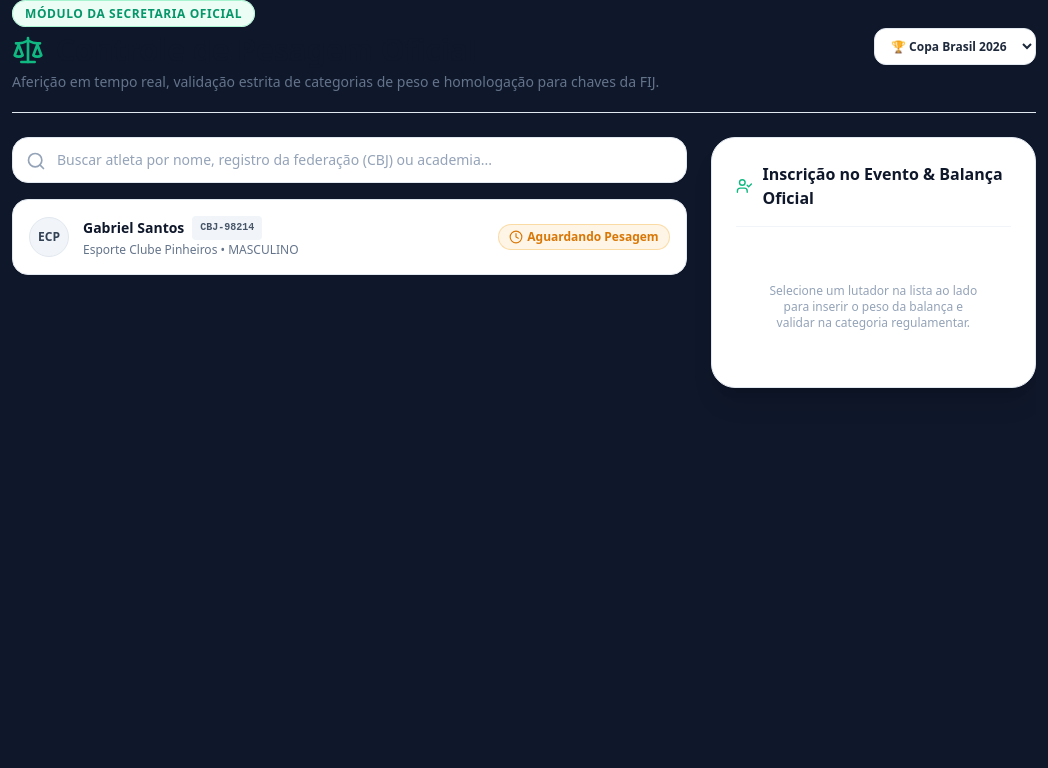
Scenario: Campeonatos & Pesagem Flow (Integration Tests) › lista todos os atletas cadastrados na Pesagem e realiza a inscrição e aferição de peso no campeonato
Expected: the text "Gabriel Santos" is shown, [83, 218, 184, 237]
Expected: the text "Aguardando Pesagem" is shown, [498, 224, 670, 250]
// Seleciona o atleta na lista
Click the text "Gabriel Santos": coordinates (173, 228) [83, 216, 262, 240]
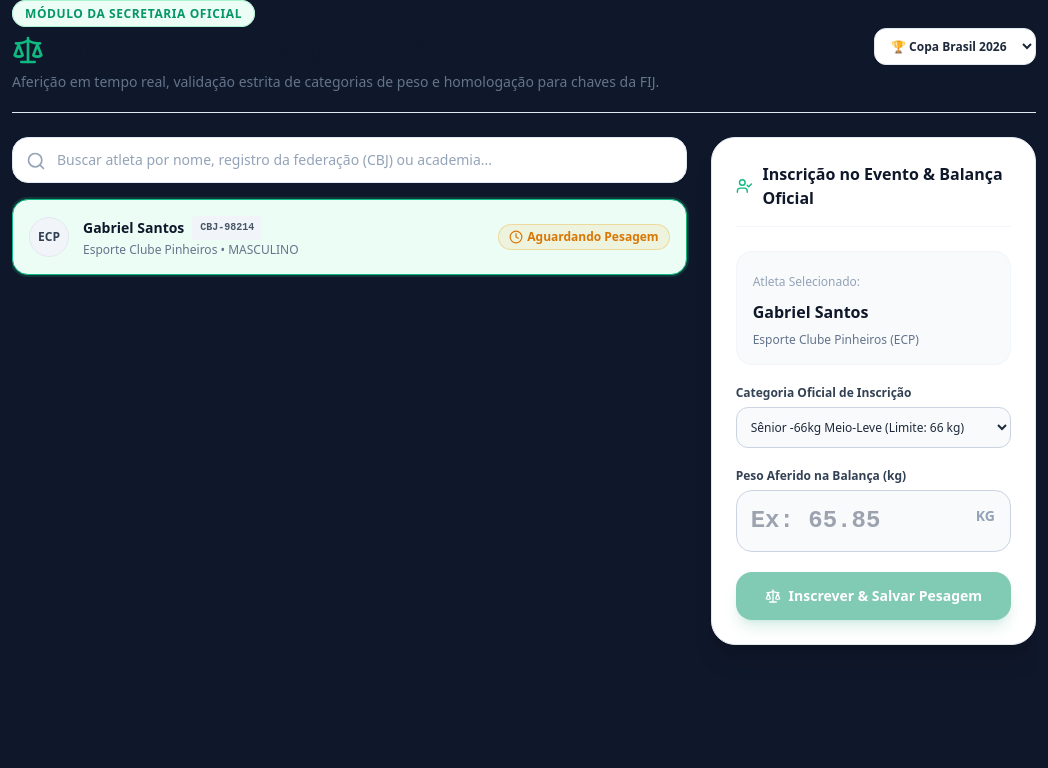
// Preenche o peso na balança
In the number field with placeholder "Ex: 65.85": coordinates (873, 521) [736, 490, 1011, 552], type "65.4"
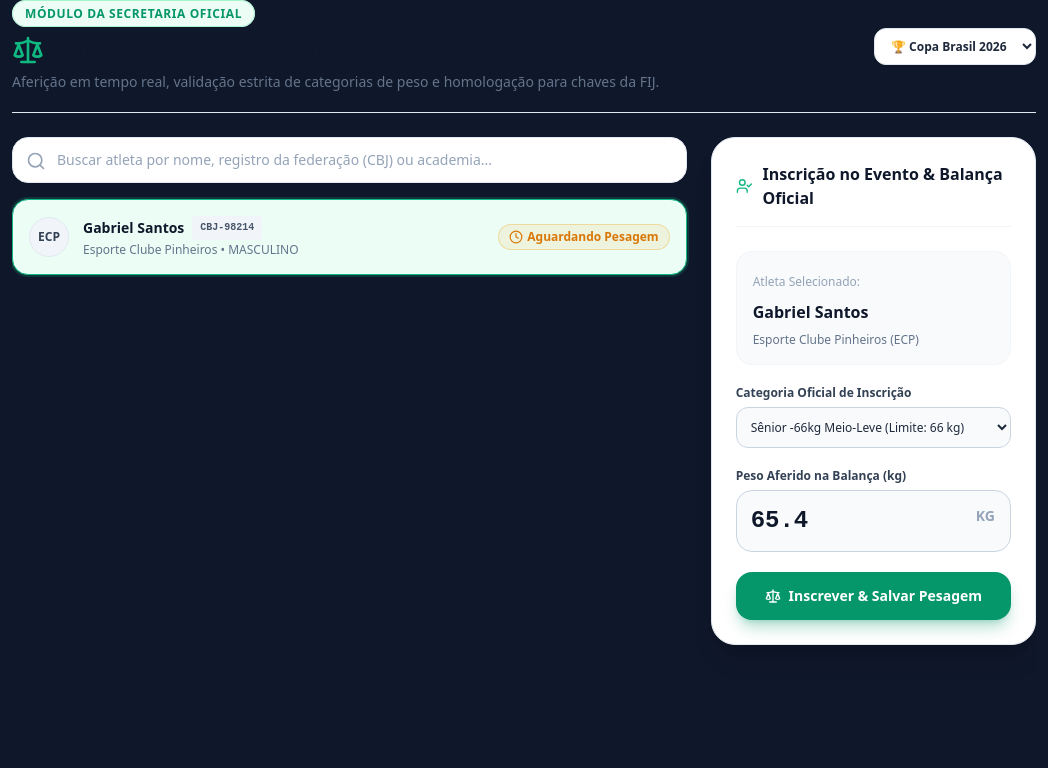
// Submete a inscrição e pesagem
Click the button "Inscrever & Salvar Pesagem": coordinates (873, 596) [736, 572, 1011, 620]
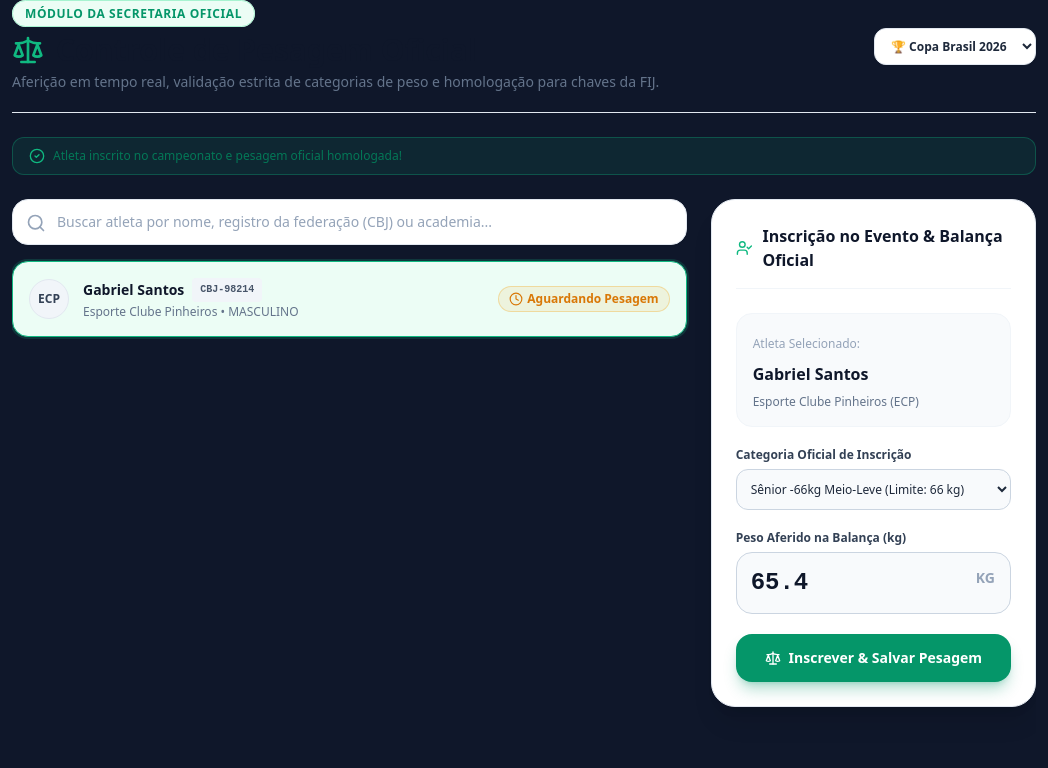
Expected: the text "Atleta inscrito no campeonato e pesagem oficial homologada!" is shown, [53, 148, 402, 164]
